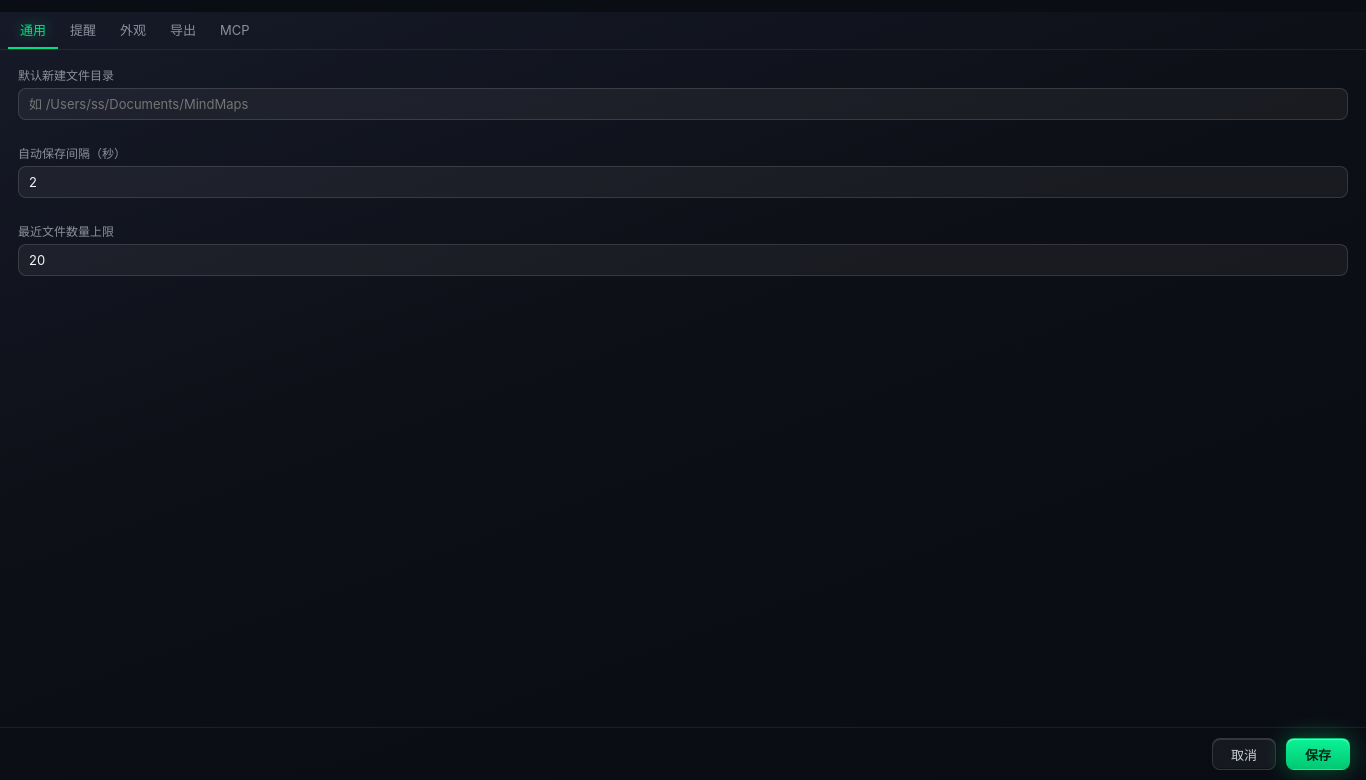
Test: FE-PREFS: 偏好设置(独立窗口视图) › FE-PREFS-04: 点击 tab 切换
Expected: the text "默认新建文件目录" is shown, x1=18 y1=68 x2=114 y2=83
Click the button "提醒".
click(83, 30)  # box x1=58 y1=12 x2=108 y2=49
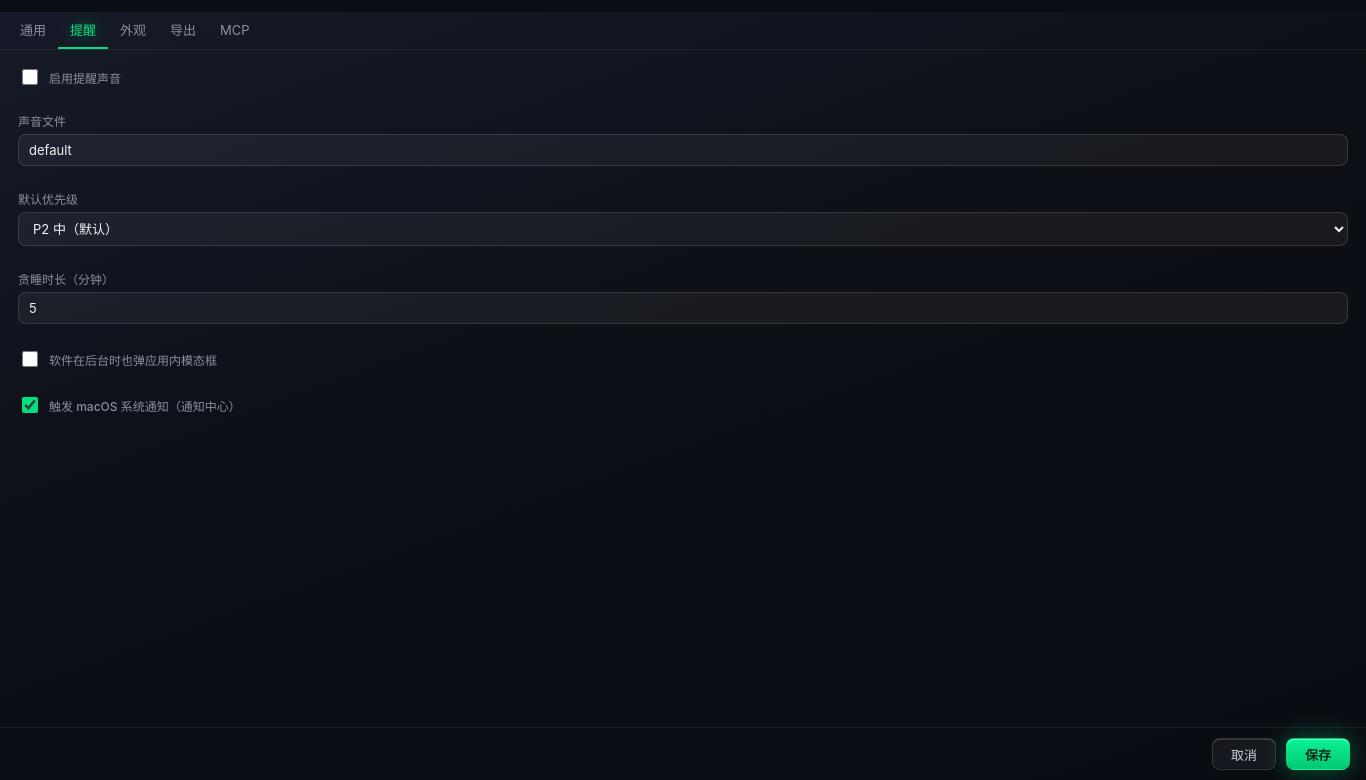
Expected: the text "启用提醒声音" is shown, x1=49 y1=68 x2=121 y2=86
Click the button "外观".
click(133, 30)  # box x1=108 y1=12 x2=158 y2=49
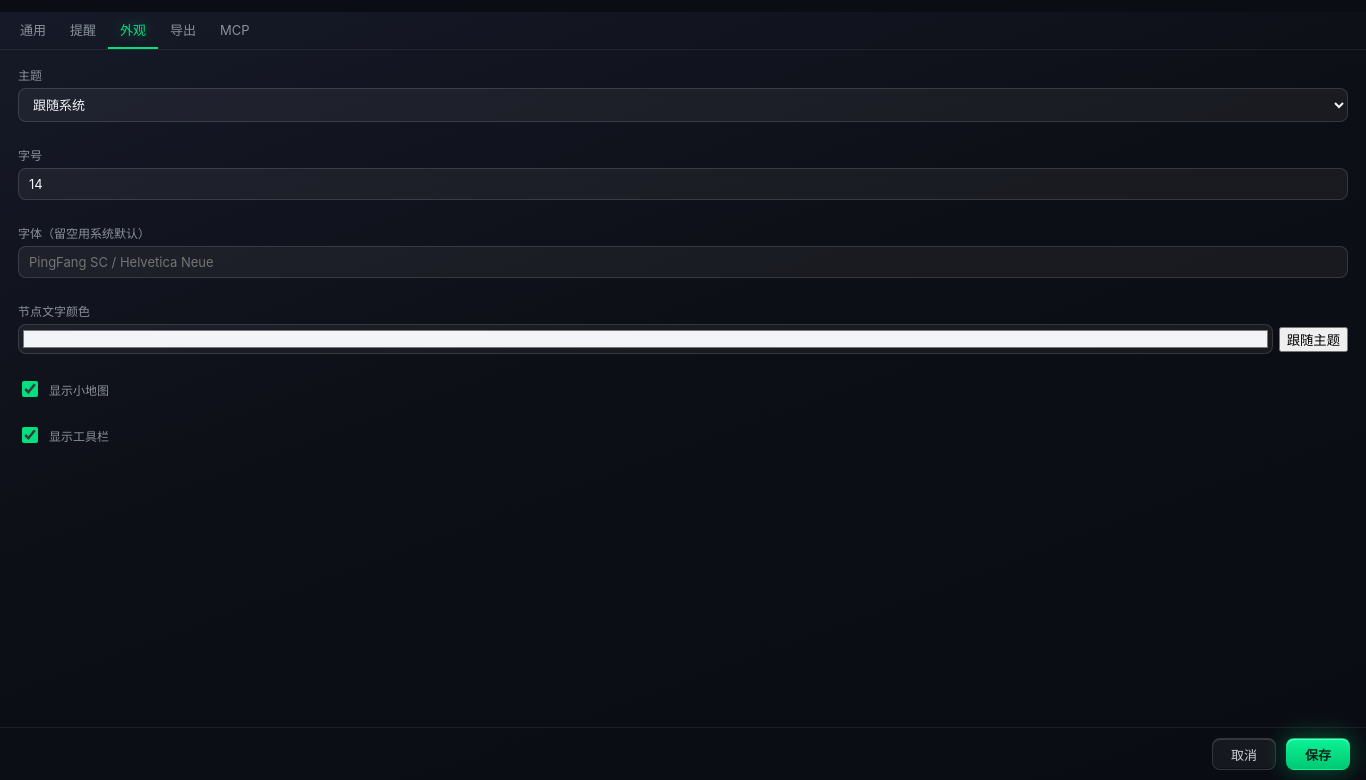
Expected: the text "主题" is shown, x1=18 y1=68 x2=42 y2=83
Click the button "导出".
click(183, 30)  # box x1=158 y1=12 x2=208 y2=49
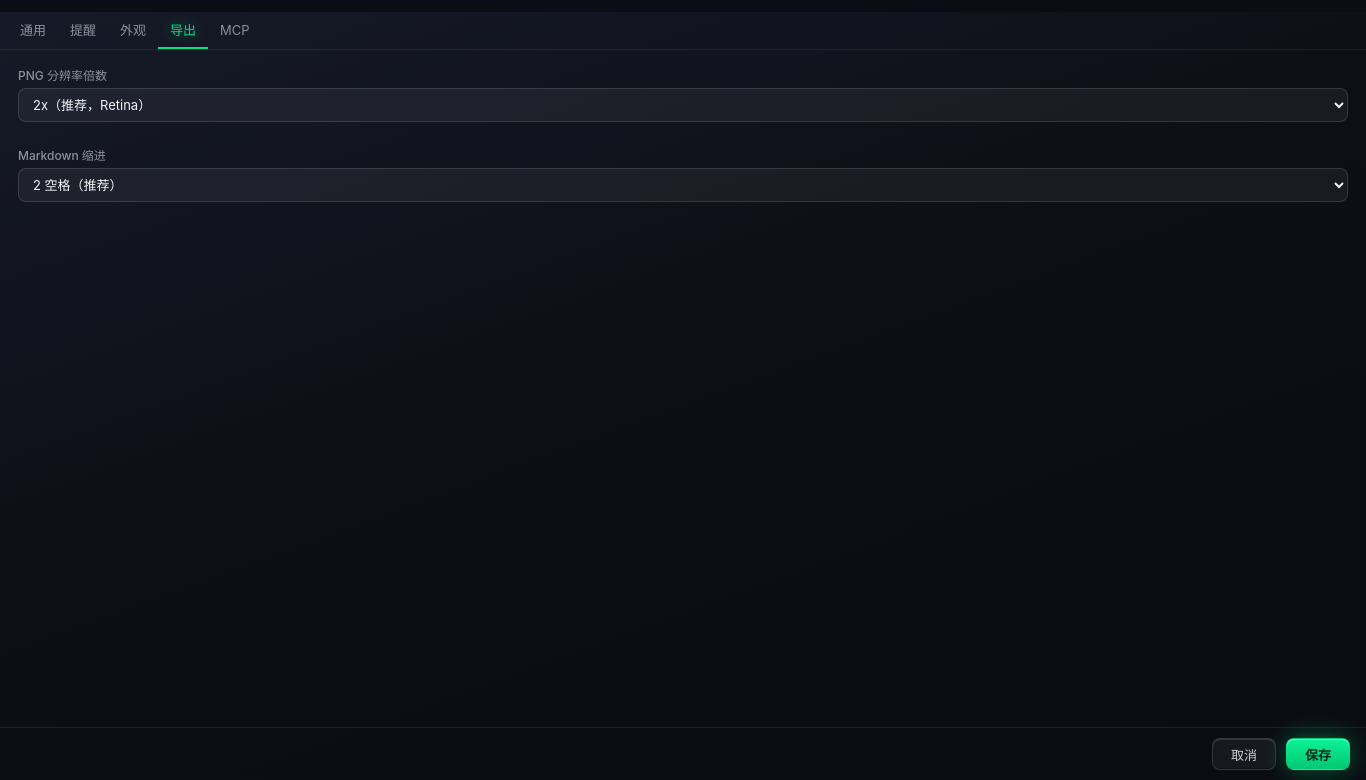
Expected: the text "PNG 分辨率倍数" is shown, x1=18 y1=68 x2=107 y2=83
